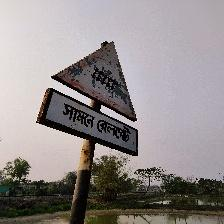Rail-crossing: (37, 40, 139, 157)
